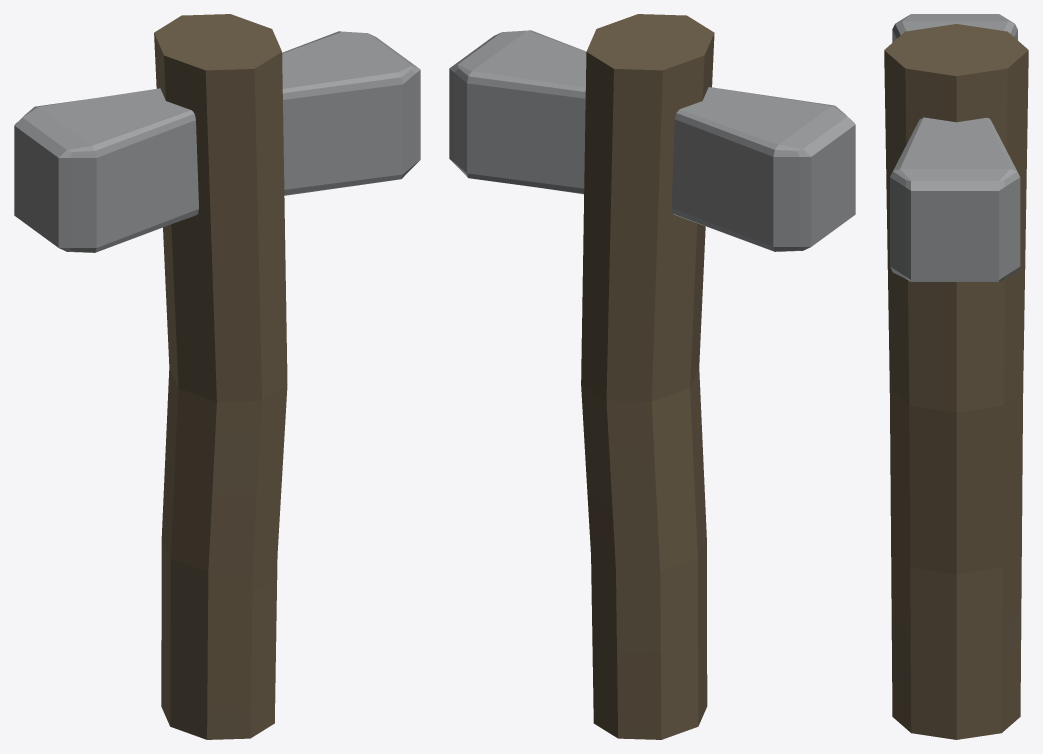
File: Hammer.fbx
3 views of the same model, side by side, from view 1: azimuth 30°, elevation 25°; view 2: azimuth 150°, elevation 25°; view 3: azimuth 270°, elevation 25° (orthographic).
Parts seen in each view (by area): view 1: Cube; view 2: Cube; view 3: Cube.
Part boxes in pixels (bbox=[...]): Cube: bbox=[14, 14, 420, 739]; Cube: bbox=[449, 14, 855, 739]; Cube: bbox=[884, 14, 1028, 739].
Bounding box in the file's own units: 2.77 × 4.91 × 0.9648.
